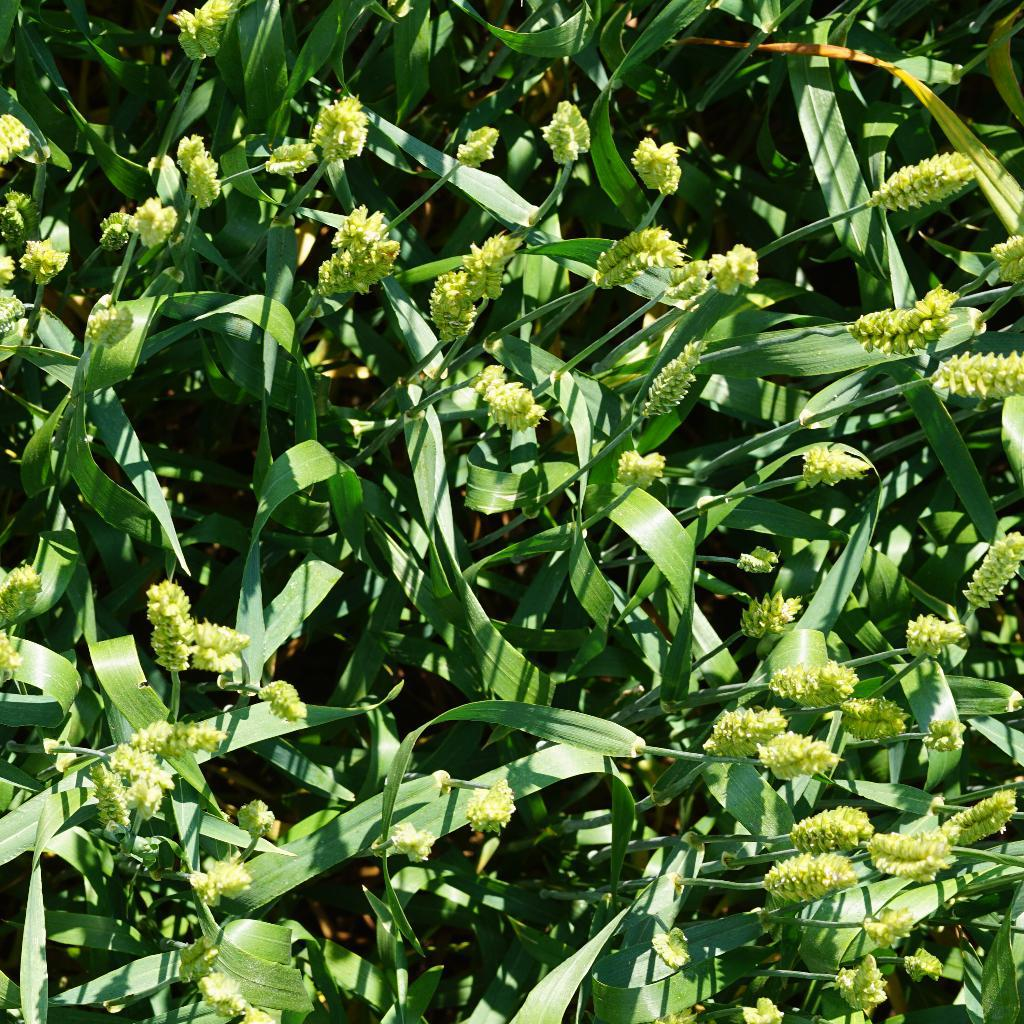0-0: (303, 200, 404, 302), (857, 145, 987, 218), (838, 291, 967, 354), (579, 221, 684, 290), (945, 772, 1021, 864), (638, 329, 707, 423), (957, 520, 1024, 615), (933, 335, 1024, 402), (148, 572, 201, 687), (477, 359, 559, 433), (864, 823, 960, 884), (623, 134, 706, 202), (748, 851, 859, 901), (691, 701, 788, 757), (750, 725, 847, 781), (299, 94, 376, 164), (120, 720, 232, 768), (195, 606, 266, 680), (385, 815, 470, 875), (186, 843, 257, 914), (172, 0, 248, 66), (539, 96, 598, 179), (79, 759, 131, 849), (116, 759, 191, 821), (836, 697, 927, 747), (787, 806, 873, 858), (180, 127, 228, 219), (731, 585, 811, 639), (799, 443, 881, 494), (765, 661, 867, 702), (0, 550, 49, 634), (247, 672, 315, 732), (103, 737, 187, 785), (706, 229, 762, 301), (899, 609, 978, 660), (426, 269, 478, 343), (444, 114, 507, 174), (828, 957, 889, 1017), (172, 930, 230, 992), (463, 232, 516, 299), (227, 788, 286, 848), (188, 970, 257, 1021), (81, 298, 146, 347), (131, 189, 183, 249), (470, 772, 523, 829), (1, 288, 40, 361), (21, 239, 75, 291), (608, 445, 673, 488), (0, 181, 43, 246), (919, 713, 979, 759), (0, 104, 33, 184), (253, 138, 318, 176), (644, 923, 694, 972), (863, 907, 919, 950), (899, 945, 952, 986), (101, 200, 139, 249), (734, 543, 783, 576), (0, 247, 21, 291)
